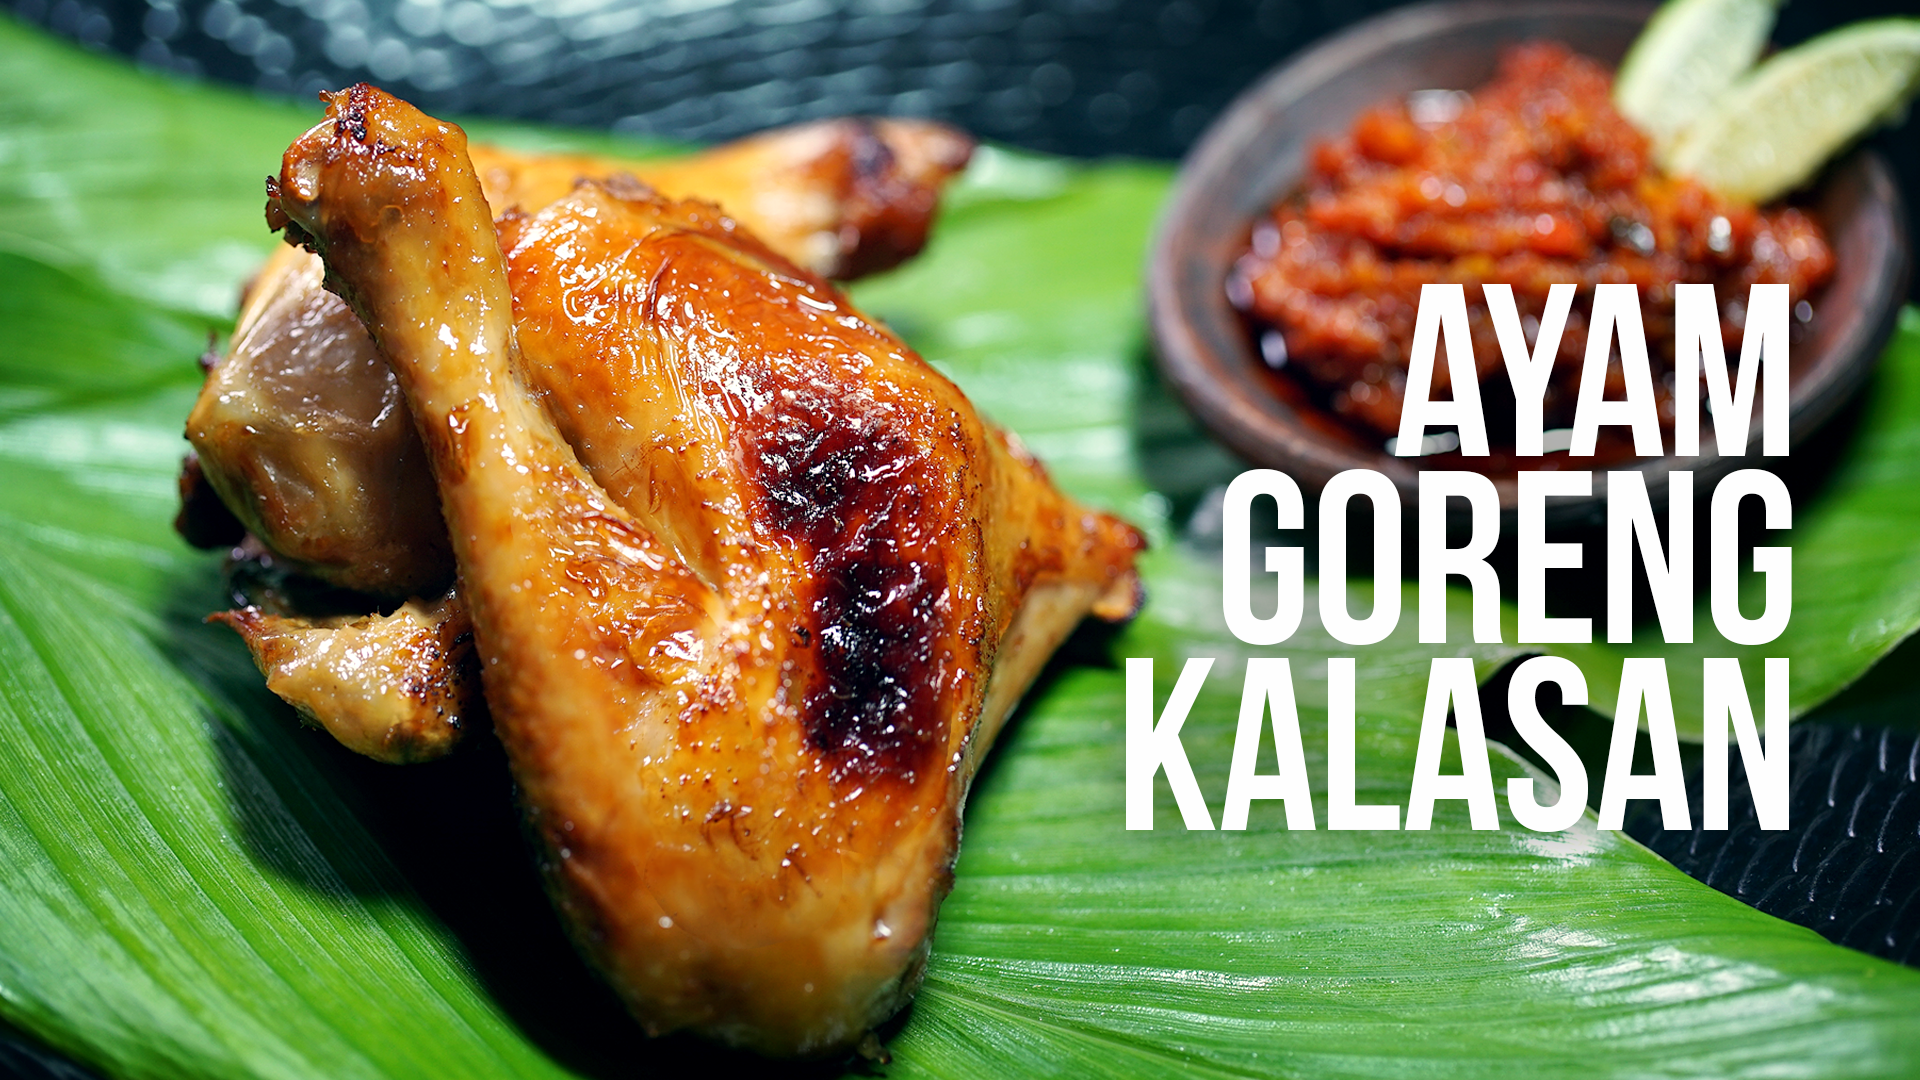Ayam: (276, 136, 1108, 1026)
